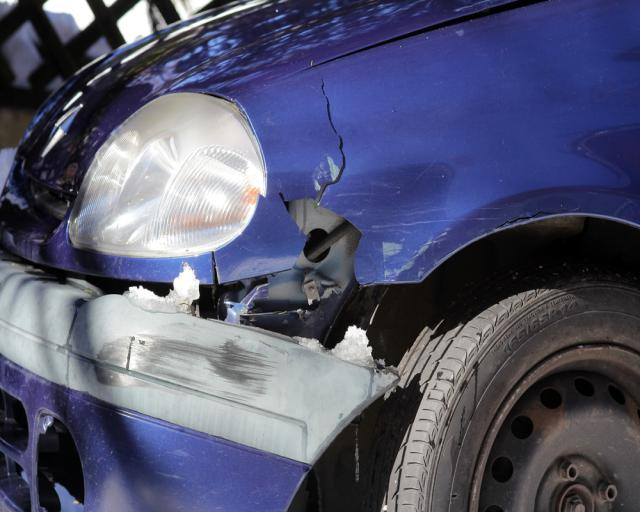crack: (313, 67, 350, 206), (483, 207, 568, 232)
dent: (356, 164, 454, 286)
scratch: (94, 333, 282, 403)
